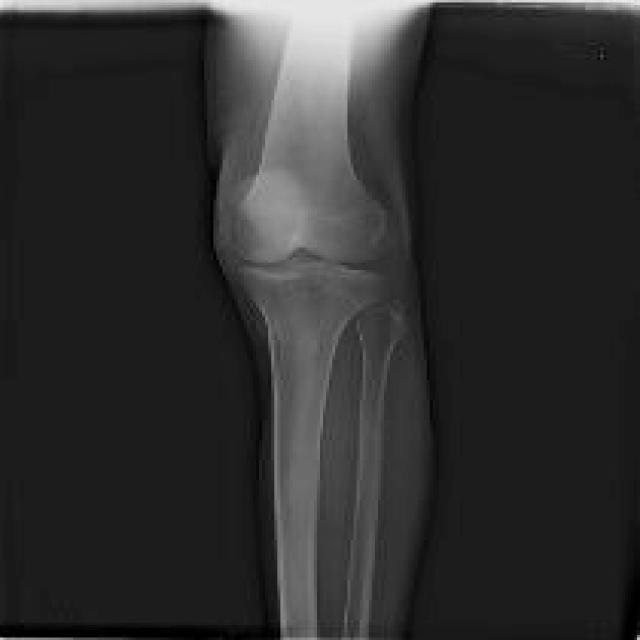normal: (224, 29, 408, 639)
